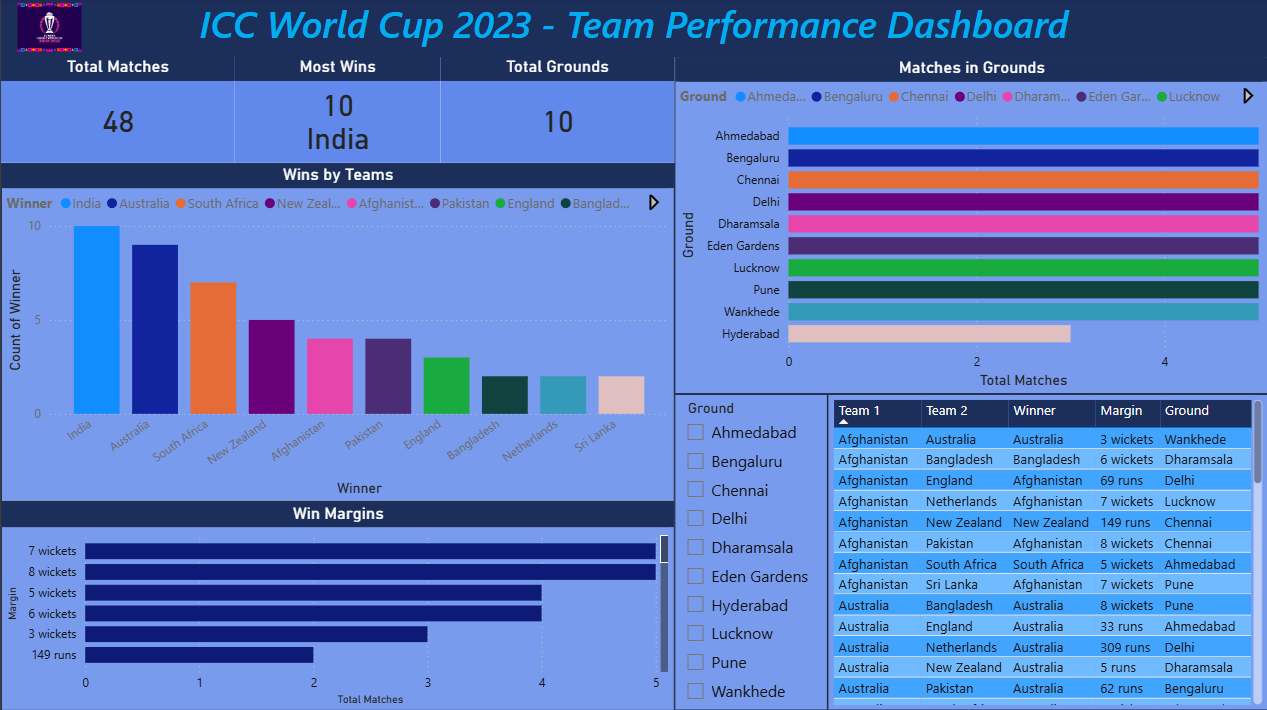

This screenshot's page, from the dashboard's own definition file:
{"tool":"powerbi","page":{"name":"Team Performance","canvas":[1280,720],"ordinal":4},"visuals":[{"type":"columnChart","title":"Wins by Teams","fields":{"Category":["Match_results.Winner"],"Y":["CountNonNull(Match_results.Winner)"],"Series":["Match_results.Winner"]},"box":[0,166.6,679.9,342.2],"z":0},{"type":"card","title":"Total Matches","fields":{"Values":["Match_results.Total Matches"]},"box":[0,59.1,236.2,107.5],"z":1000},{"type":"barChart","title":"Matches in Grounds","fields":{"Category":["Match_results.Ground"],"Y":["Match_results.Total Matches"],"Series":["Match_results.Ground"]},"box":[679.9,59.1,599.6,340.7],"z":2000},{"type":"barChart","title":"Win Margins","fields":{"Category":["Match_results.Margin"],"Y":["Match_results.Total Matches"]},"box":[0,508.8,679.9,210.5],"z":3000},{"type":"slicer","fields":{"Values":["Match_results.Ground"]},"box":[679.9,399.8,154.4,319.5],"z":4000},{"type":"card","title":"Total Grounds","fields":{"Values":["Match_results.Total Grounds"]},"box":[443.7,59.1,236.2,107.5],"z":5000},{"type":"tableEx","fields":{"Values":["Match_results.Team 1","Match_results.Team 2","Match_results.Winner","Match_results.Margin","Match_results.Ground"]},"box":[834.3,399.8,445.2,319.5],"z":6000},{"type":"card","title":"Most Wins","fields":{"Values":["Match_results.Most Wins"]},"box":[236.2,59.1,207.4,107.5],"z":7000},{"type":"textbox","title":"ICC World Cup 2023 - Team Performance Dashboard","box":[0,0,1278,59.1],"z":7001},{"type":"image","box":[0,0,98.4,59.1],"z":7002}]}

Visuals, with their boxes in screenshot pixels (x1, y1, x2, y2), scaled from the page's 1280x720 canvas onto the 1267x710 screenshot:
"Wins by Teams" columnChart: 0/164/673/502
"Total Matches" card: 0/58/234/164
"Matches in Grounds" barChart: 673/58/1266/394
"Win Margins" barChart: 0/502/673/709
slicer - Match_results.Ground: 673/394/826/709
"Total Grounds" card: 439/58/673/164
tableEx - Match_results.Team 1 x Match_results.Team 2: 826/394/1266/709
"Most Wins" card: 234/58/439/164
"ICC World Cup 2023 - Team Performance Dashboard" textbox: 0/0/1265/58
image: 0/0/97/58
